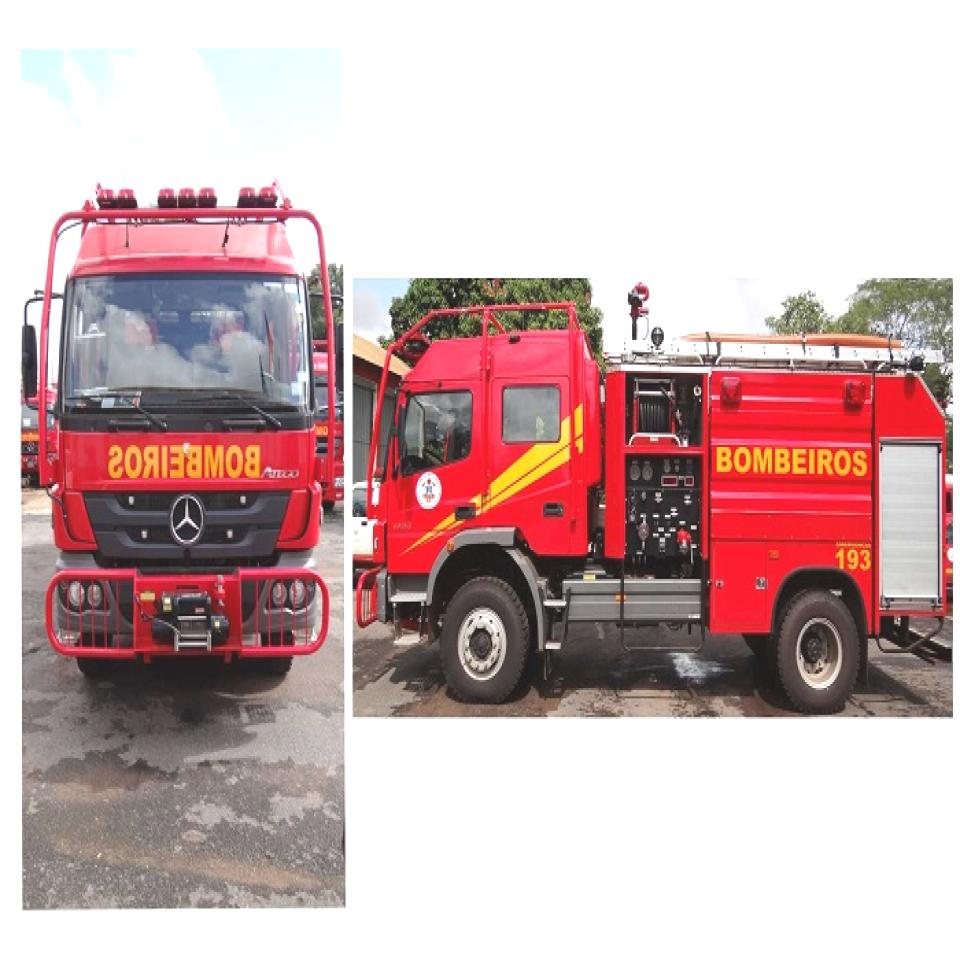bombeiro: (357, 281, 946, 713), (21, 175, 344, 676)
